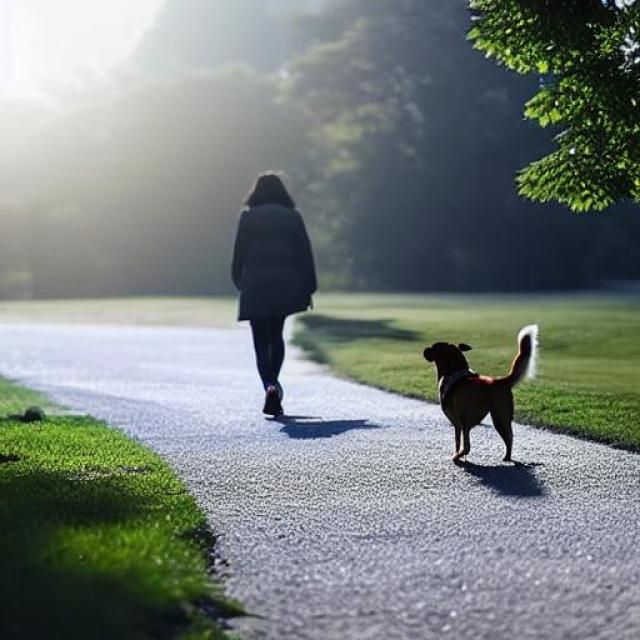Unleashed_Dog: (243, 280, 538, 463)
